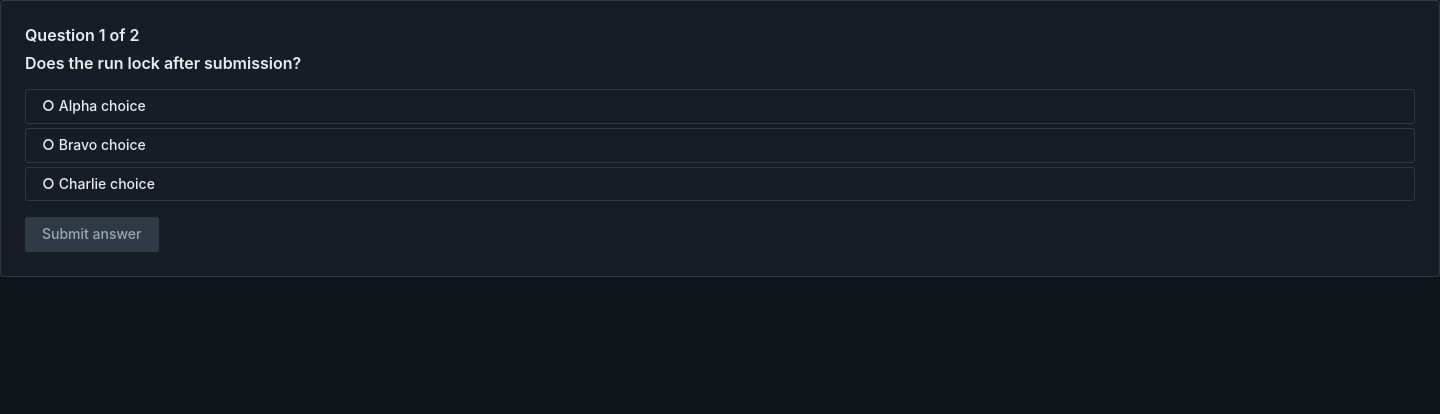
Scenario: QuestionRun: locking › replaces Submit with Next once answered, so a question cannot be skipped
Expected: the button "next question" is not shown
Click the button "○Bravo choice" at (102, 144), box 25,128 -> 1415,163
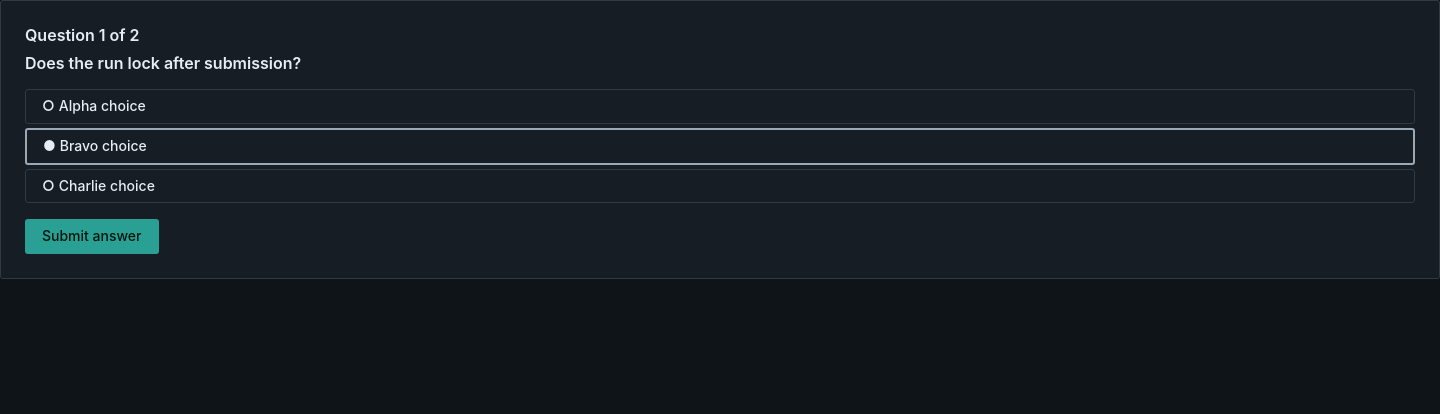
Click the button "Submit answer" at (92, 237), box 25,219 -> 158,254
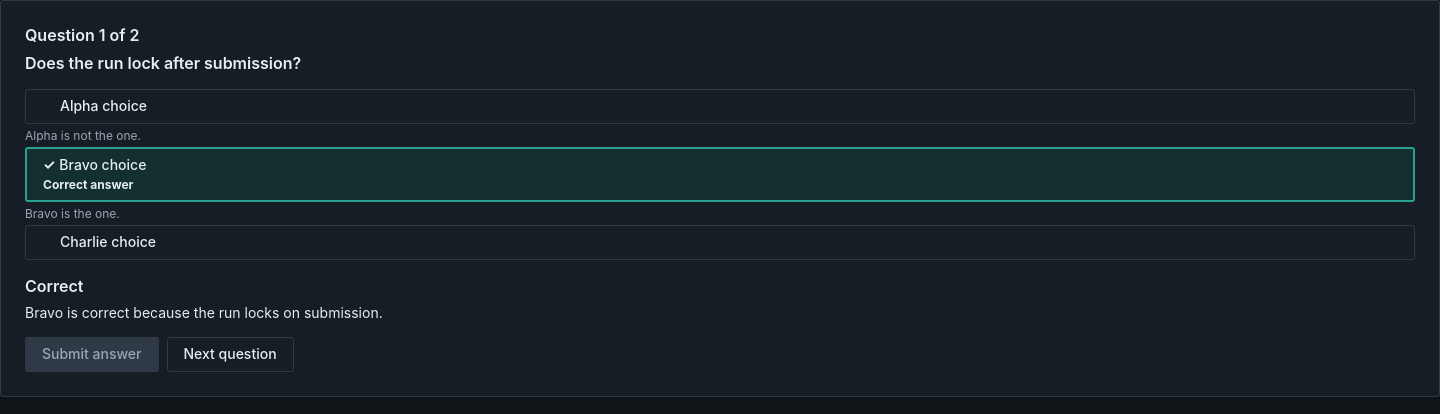
Now the button "Submit answer" is disabled, box 25,337 -> 158,372
Now the button "Next question" is shown, box 166,337 -> 294,372
